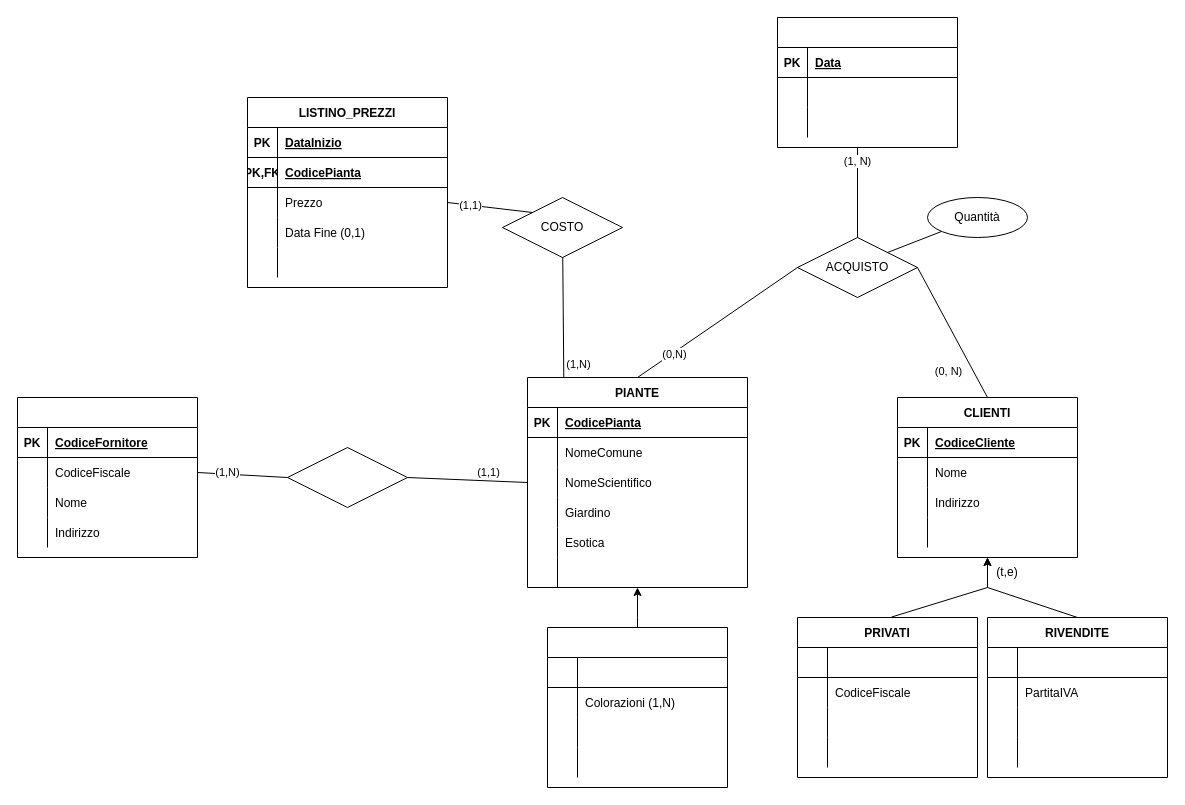
This 1185x805 diagram has some shape labels left out. Here are the shapes that lost their labels. From the top down, the box of each, then its label:
(776, 16, 958, 148): TEMPO
(16, 396, 198, 558): FORNITORI
(286, 446, 408, 508): FORNISCONO
(546, 626, 728, 788): FIORITE
